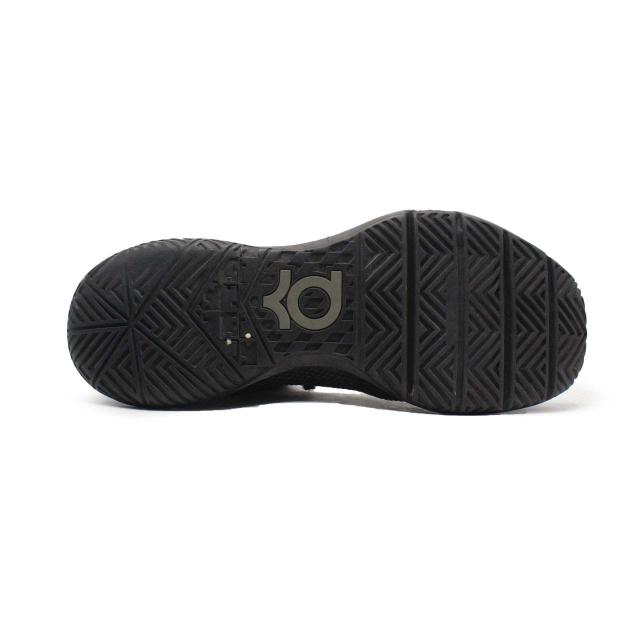outersole: (66, 210, 588, 419)
